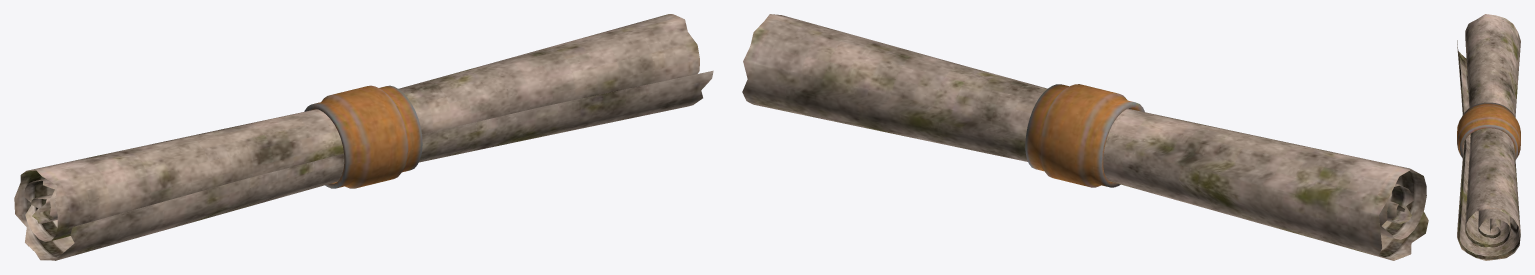
Rendered from scroll_ancient.glb.
3 views of the same model, side by side, from view 1: azimuth 30°, elevation 25°; view 2: azimuth 150°, elevation 25°; view 3: azimuth 270°, elevation 25° (orthographic). The views are drawn at different scales.
Parts seen in each view (by area): view 1: Scroll_Scroll_0; view 2: Scroll_Scroll_0; view 3: Scroll_Scroll_0.
Part boxes in pixels (x1,y1,x2,y2): Scroll_Scroll_0: (14, 14, 713, 260); Scroll_Scroll_0: (742, 14, 1428, 260); Scroll_Scroll_0: (1457, 14, 1520, 260).
Size of the model in its own units: 30.89 by 3.85 by 4.23.
Materials: 1 (1 with a texture image).
